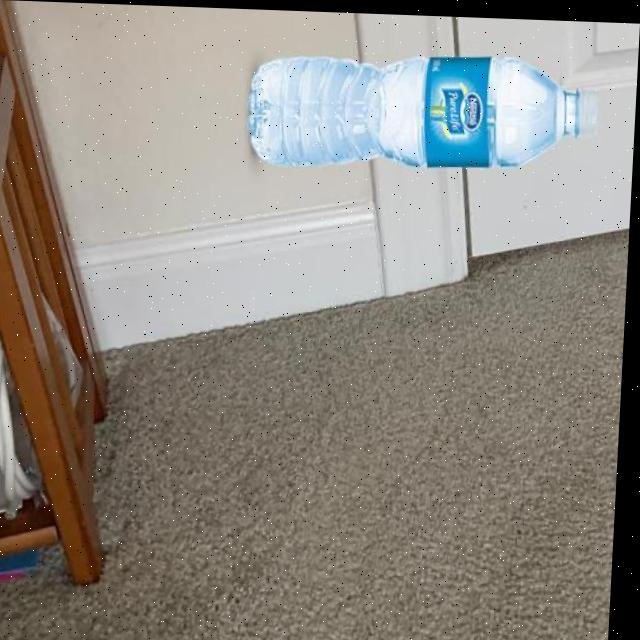bottle: (245, 42, 601, 174)
